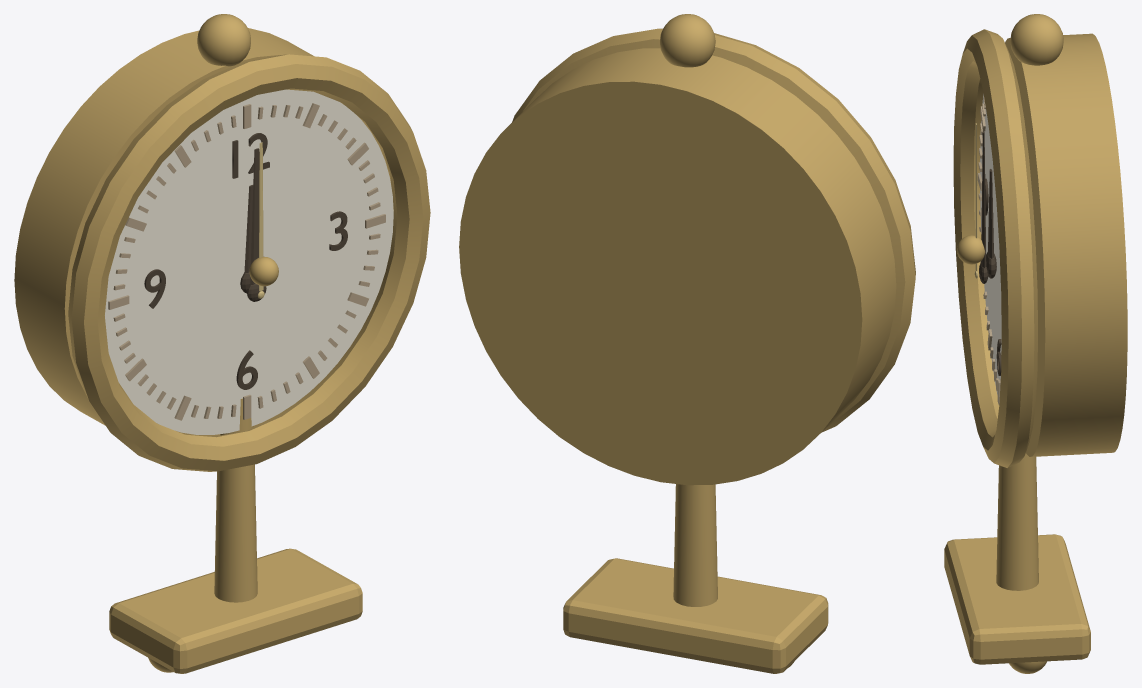
The model's file is clock.glb.
3 renders of one model, left to right at view 1: azimuth 30°, elevation 25°; view 2: azimuth 150°, elevation 25°; view 3: azimuth 270°, elevation 25°, orthographic. The views are drawn at different scales.
Parts seen in each view (by area): view 1: clock_face, decor_clock_bezel, decor_clock_housing, decor_clock_base, decor_clock_stand, clock_ticks, decor_clock_crown, clock_hand_minute, decor_clock_hub, clock_hand_hour; view 2: decor_clock_housing, decor_clock_base, decor_clock_bezel, decor_clock_stand, decor_clock_crown; view 3: decor_clock_housing, decor_clock_bezel, decor_clock_base, decor_clock_stand, clock_face, decor_clock_crown, clock_ticks, decor_clock_hub, clock_hand_minute, clock_hand_hour, decor_clock_foot_1, clock_hand_second.
Part boxes in pixels (box(x1,y1,x2,y2)): clock_face: box(105, 89, 393, 434); decor_clock_bezel: box(68, 54, 430, 471); decor_clock_housing: box(14, 28, 393, 436); decor_clock_base: box(109, 548, 362, 673); decor_clock_stand: box(214, 398, 257, 602); clock_ticks: box(108, 103, 385, 420); decor_clock_crown: box(197, 14, 250, 66); clock_hand_minute: box(247, 148, 266, 301); decor_clock_hub: box(249, 256, 278, 286); clock_hand_hour: box(240, 185, 253, 293); decor_clock_housing: box(459, 48, 896, 485); decor_clock_base: box(563, 558, 828, 673); decor_clock_bezel: box(512, 28, 915, 432); decor_clock_stand: box(673, 484, 717, 606); decor_clock_crown: box(660, 14, 715, 67); decor_clock_housing: box(1005, 33, 1127, 456); decor_clock_bezel: box(953, 29, 1037, 467); decor_clock_base: box(944, 534, 1090, 664); decor_clock_stand: box(996, 453, 1038, 590); clock_face: box(980, 94, 1001, 394); decor_clock_crown: box(1010, 14, 1063, 65); clock_ticks: box(977, 96, 1000, 404); decor_clock_hub: box(957, 235, 985, 264); clock_hand_minute: box(979, 131, 988, 283); clock_hand_hour: box(986, 169, 996, 278); decor_clock_foot_1: box(1009, 661, 1046, 673); clock_hand_second: box(974, 123, 977, 278).
Size of the model in its own units: 0.18 by 0.28 by 0.0751.
